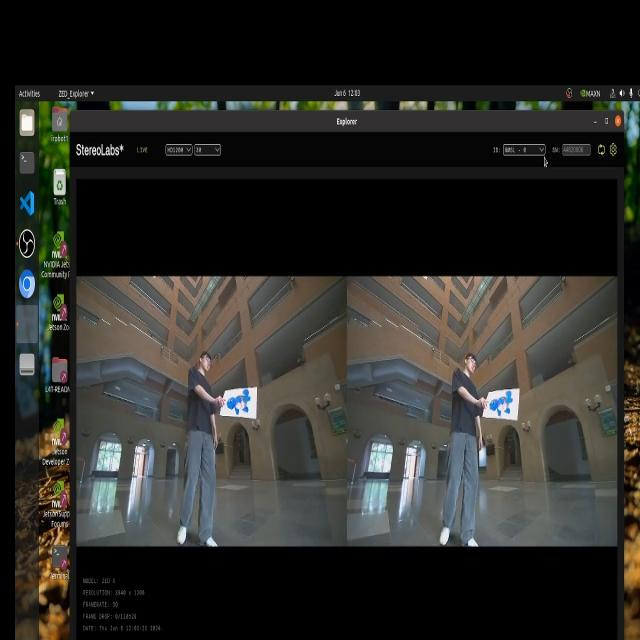blue: (220, 376, 252, 417), (487, 392, 521, 422)
